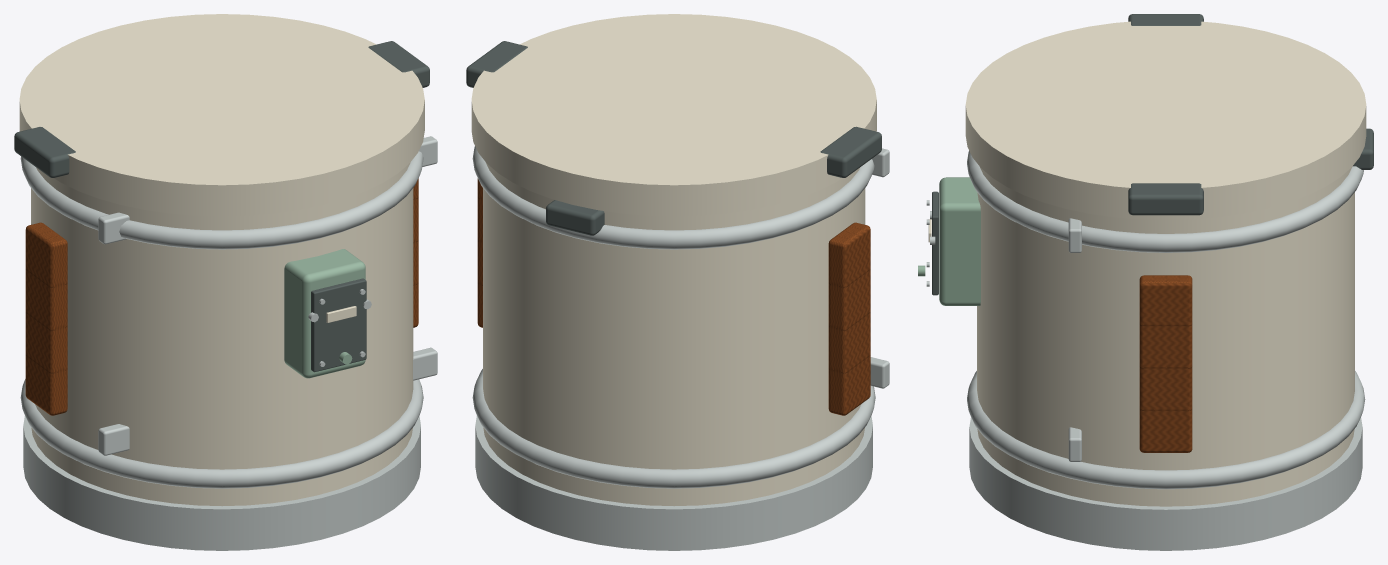
The model's file is ceramics-pottery-studio-electric-top-loading-kiln-d33965dd__29483.glb.
3 renders of one model, left to right at view 1: azimuth 30°, elevation 25°; view 2: azimuth 150°, elevation 25°; view 3: azimuth 270°, elevation 25°, orthographic.
Visible parts, largest first — view 1: electric-top-loading-kiln; view 2: electric-top-loading-kiln; view 3: electric-top-loading-kiln.
Part boxes in pixels (bbox=[...]): electric-top-loading-kiln: bbox=[14, 14, 437, 550]; electric-top-loading-kiln: bbox=[466, 14, 889, 550]; electric-top-loading-kiln: bbox=[918, 14, 1373, 550].
Bounding box in the file's own units: 1.15 × 1.06 × 1.21.
5 materials, 1 textured.
